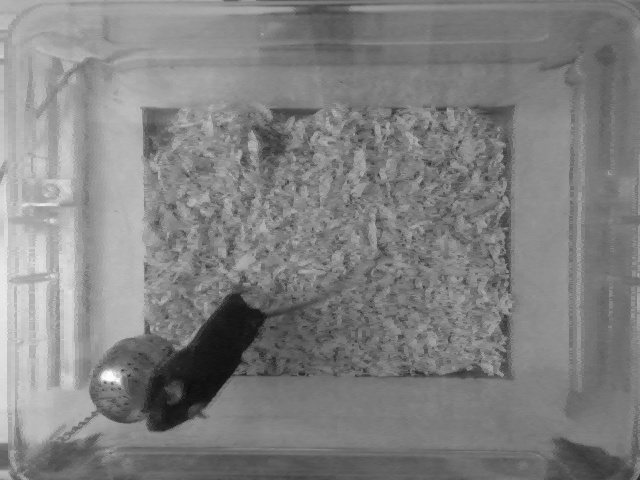mice: (143, 275, 358, 433)
